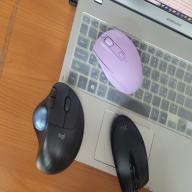mouse: (32, 81, 84, 176), (92, 29, 142, 95), (109, 114, 151, 192)
